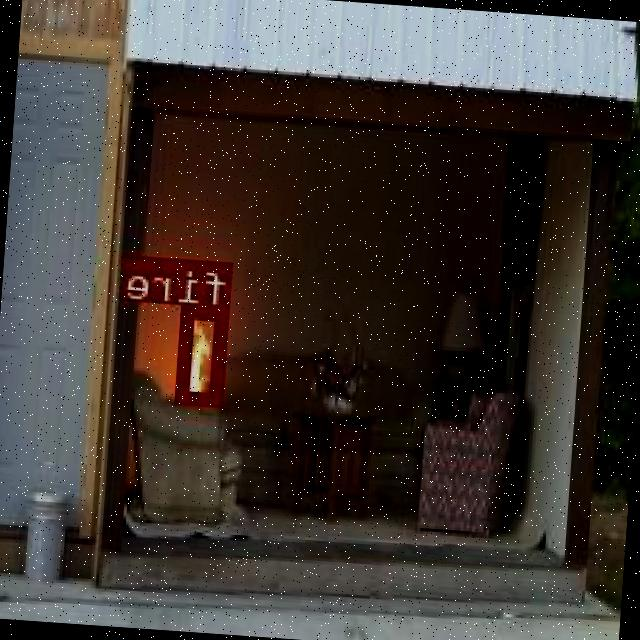fire: (178, 304, 230, 404)
